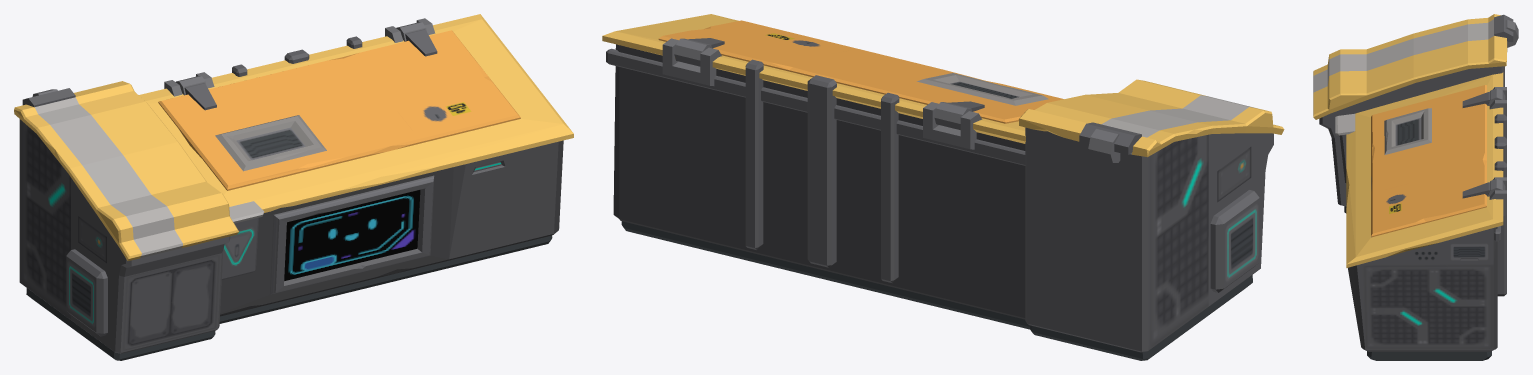
The model's file is SM_Prop_Recycle_Bin_01.fbx.
3 views of the same model, side by side, from view 1: azimuth 30°, elevation 25°; view 2: azimuth 150°, elevation 25°; view 3: azimuth 270°, elevation 25° (orthographic). The views are drawn at different scales.
Parts seen in each view (by area): view 1: SM_Prop_Recycle_Bin_01; view 2: SM_Prop_Recycle_Bin_01; view 3: SM_Prop_Recycle_Bin_01.
Boxes of the visible parts, x1,y1,x2,y2 form: SM_Prop_Recycle_Bin_01: (14,14,573,360); SM_Prop_Recycle_Bin_01: (602,14,1284,360); SM_Prop_Recycle_Bin_01: (1313,14,1518,360).
Bounding box in the file's own units: 459 × 182 × 207.
